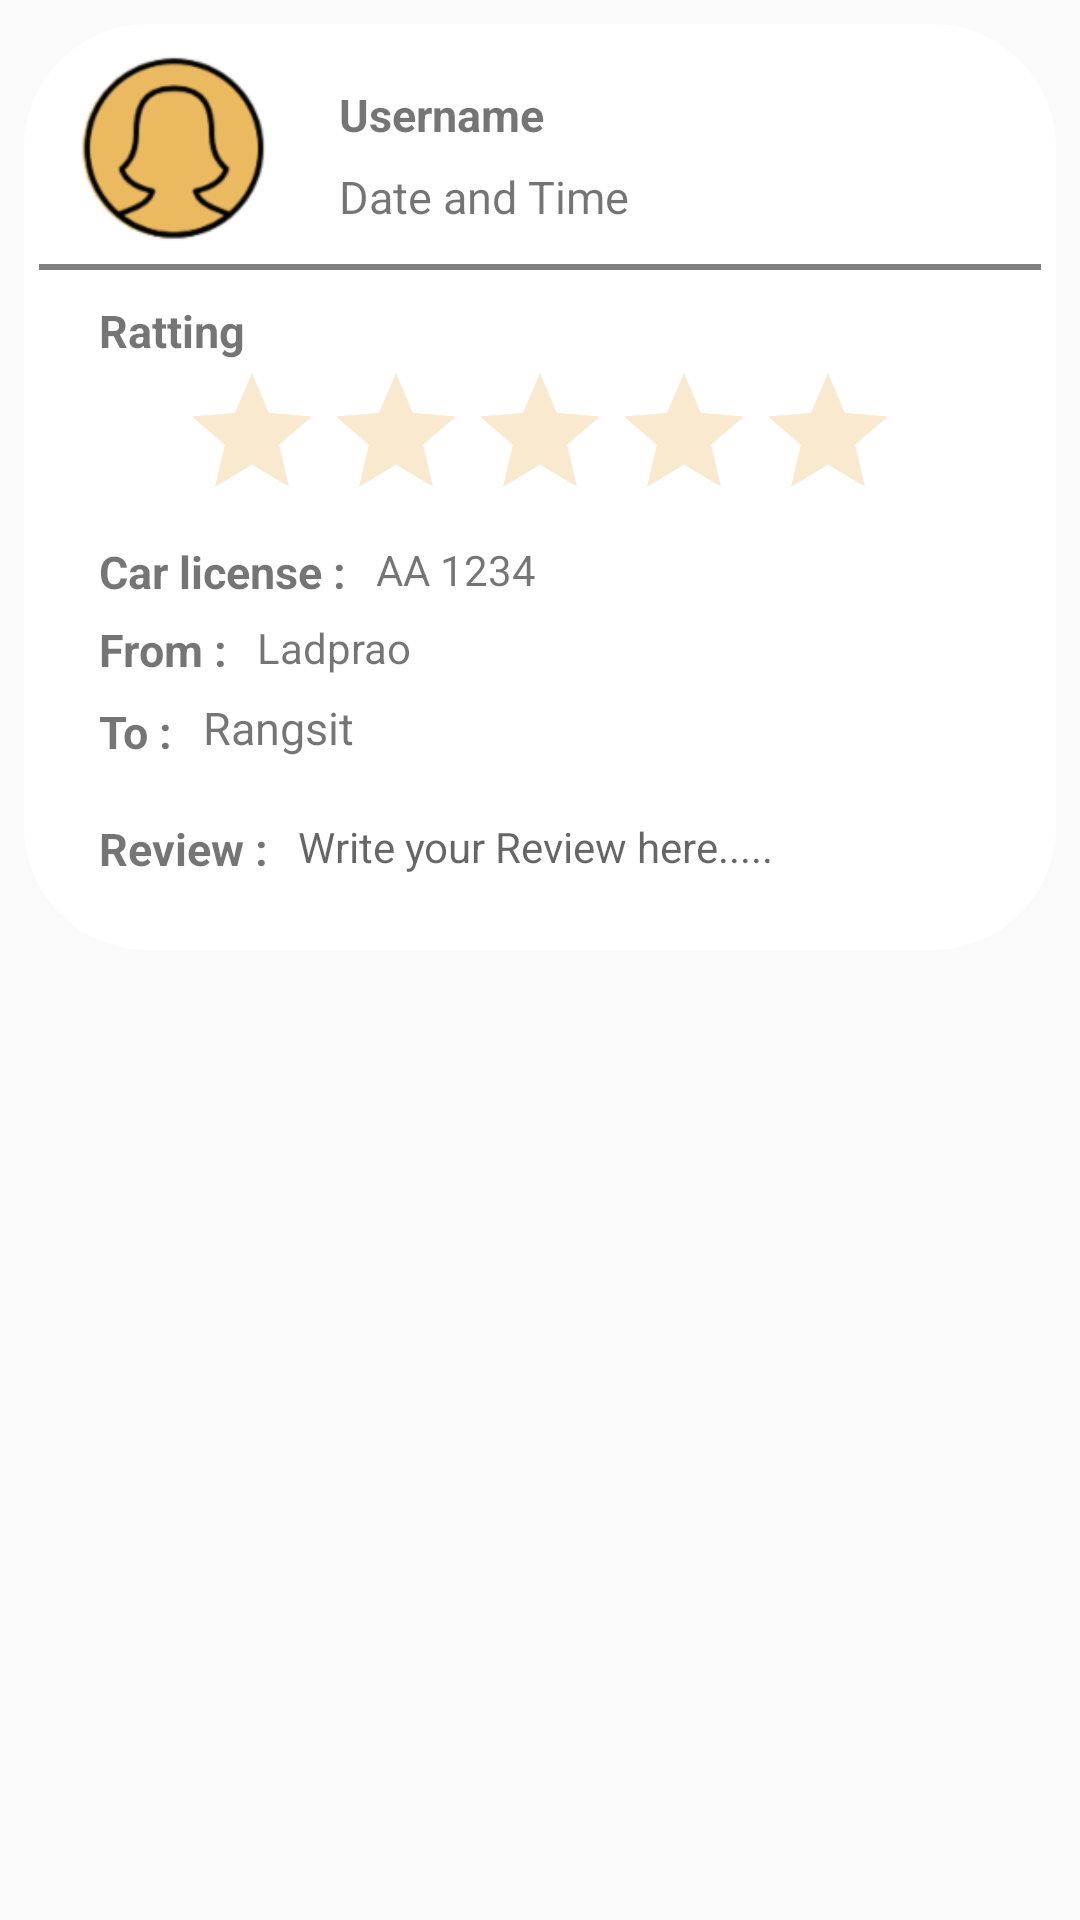

Named icons in this screenshot (1080 x 1920) and their bounding boxes, {"x1": x1, "y1": y1, "x2": x2, "y2": y2}:
profile user: {"x1": 82, "y1": 57, "x2": 265, "y2": 239}
